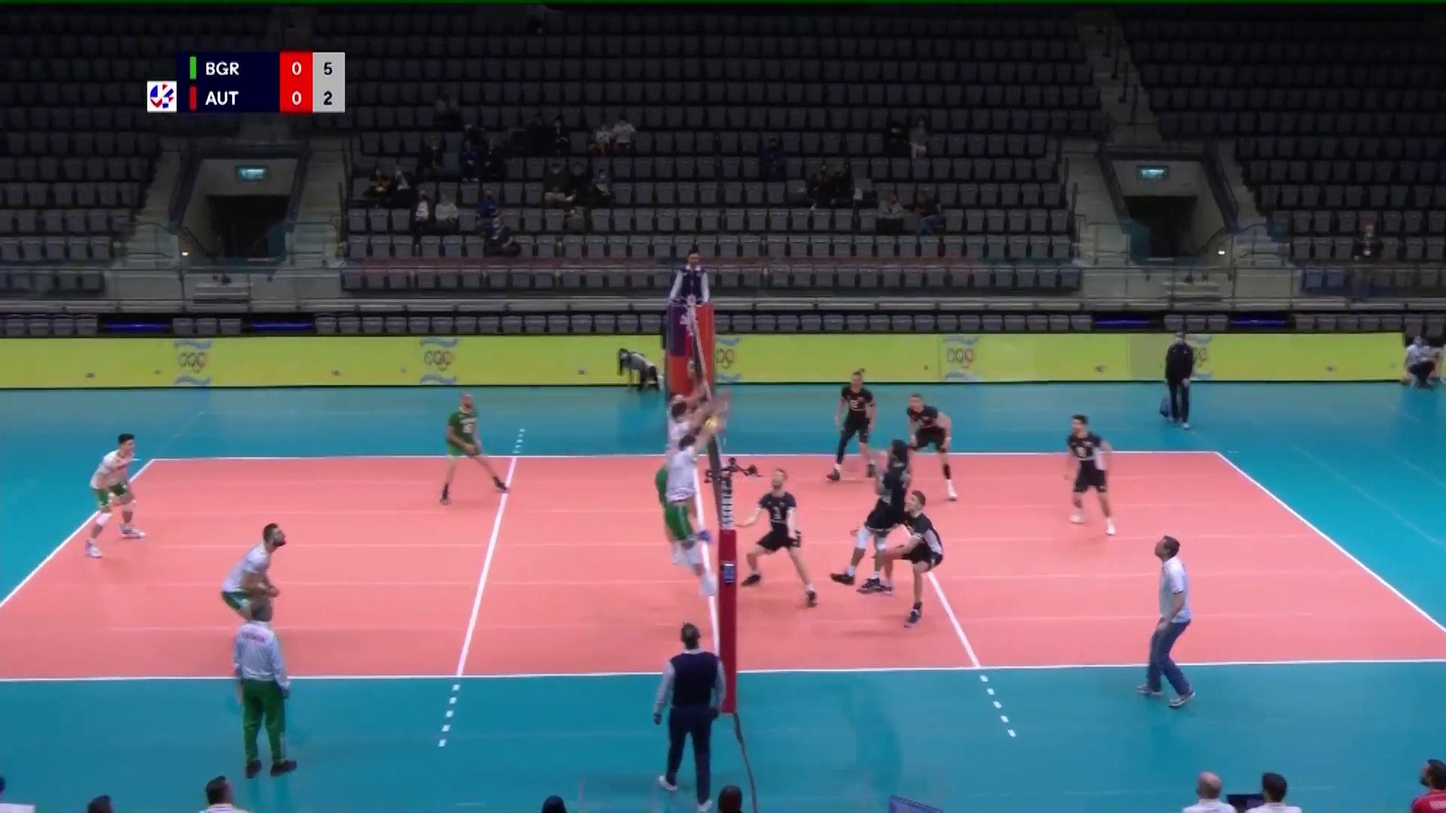ball: (706, 417, 725, 433)
